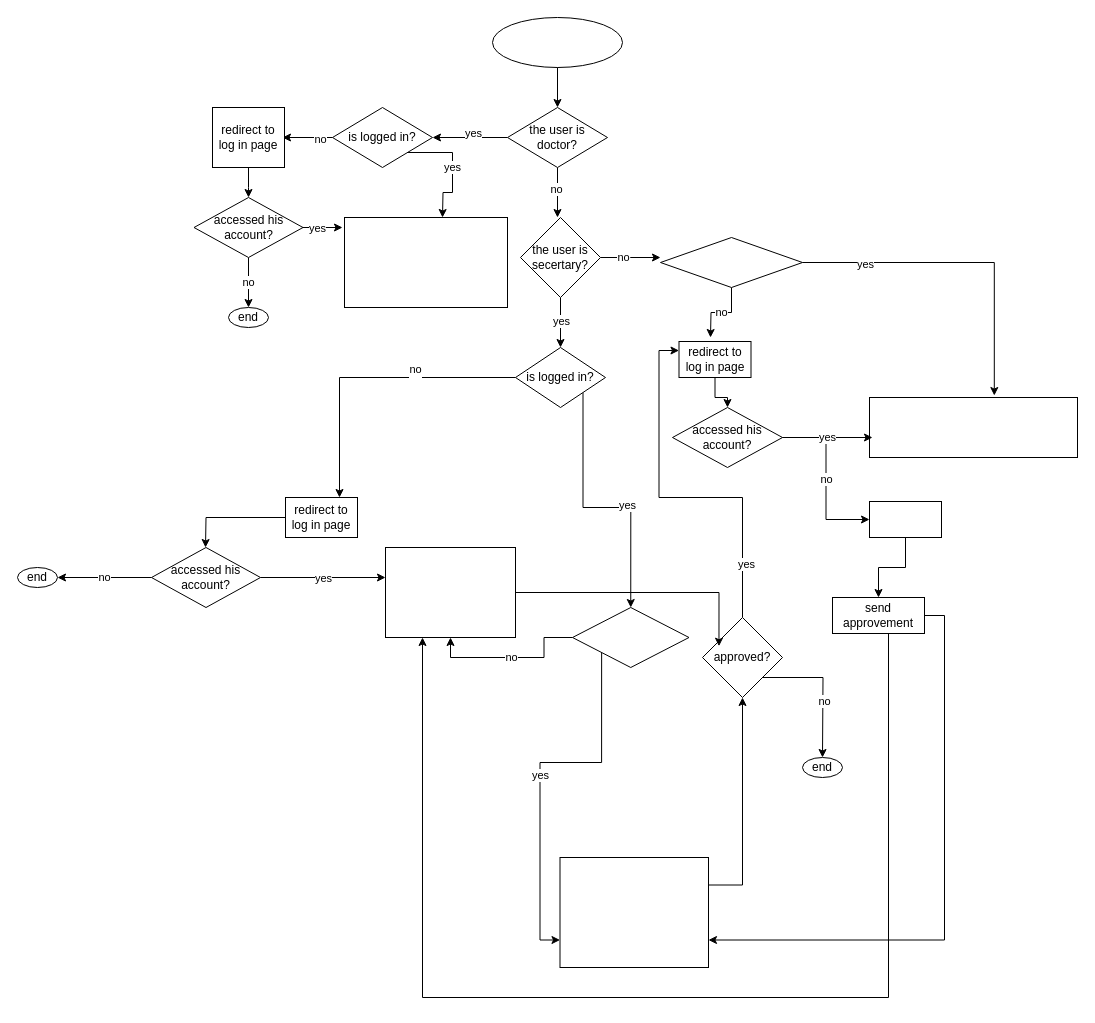
The diagram is 1095 pixels wide and 1023 high, and some of its shapes have lost their labels. The box of each missing label's shape, as (x1, y1, x2, y2) in pixels:
CRUD appointments + AI+ update patient: (868, 396, 1078, 458)
CRUD appointments / doctors / patients / Secertary/approvement + AI: (559, 856, 708, 968)
CRUD appointments / doctors / patients/approvemen + AIt: (384, 546, 516, 638)
doctor can see/update his schdule,dashboard and details: (344, 216, 508, 308)
main secertary?: (572, 606, 689, 668)
patient is logged in?: (660, 236, 802, 288)
redirect to sign up page: (868, 500, 942, 538)
user entered the Tortech page: (492, 16, 622, 68)
